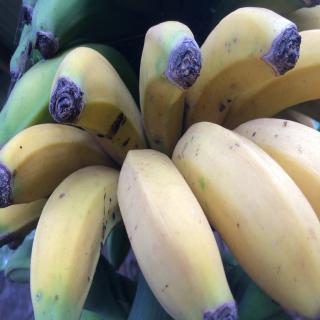Banana: (0, 0, 320, 320), (115, 146, 239, 320)
